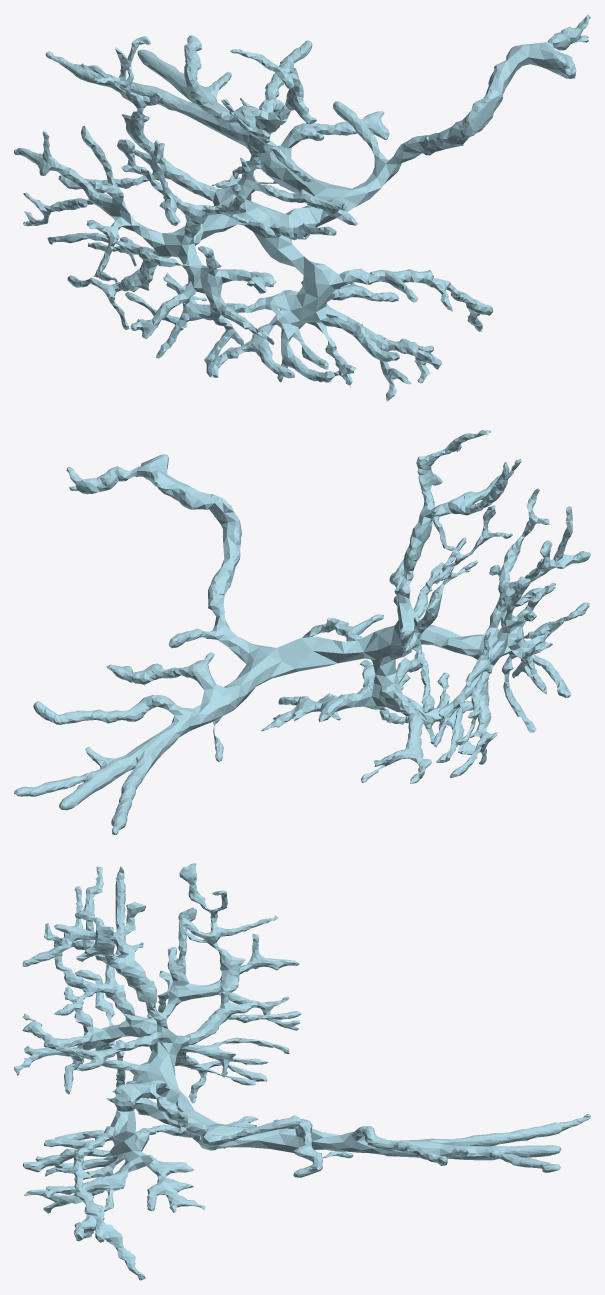
The model's file is portalvein.obj.
3 renders of one model, top to bottom at view 1: azimuth 30°, elevation 25°; view 2: azimuth 150°, elevation 25°; view 3: azimuth 270°, elevation 25°, orthographic. The views are drawn at different scales.
Parts seen in each view (by area): view 1: grp1; view 2: grp1; view 3: grp1.
Part boxes in pixels (box(x1,y1,x2,y2)): grp1: box(14, 14, 590, 401); grp1: box(14, 430, 590, 834); grp1: box(14, 863, 590, 1280).
Bounding box in the file's own units: 190 × 129 × 222.
